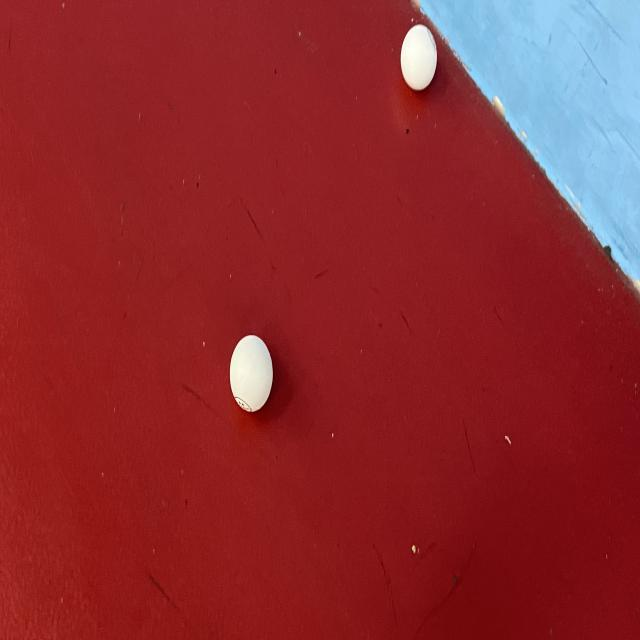ping-pong-ball: (217, 322, 280, 422), (396, 17, 444, 106)
